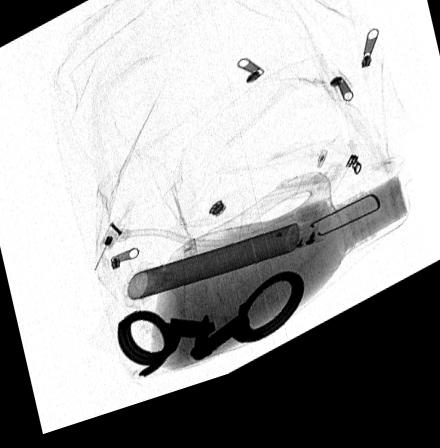HandCuffs: (116, 288, 304, 385)
